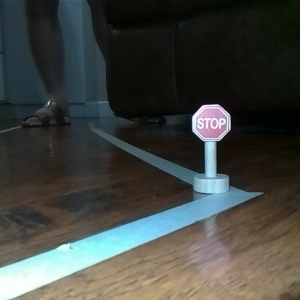stop sign: (188, 101, 234, 196)
